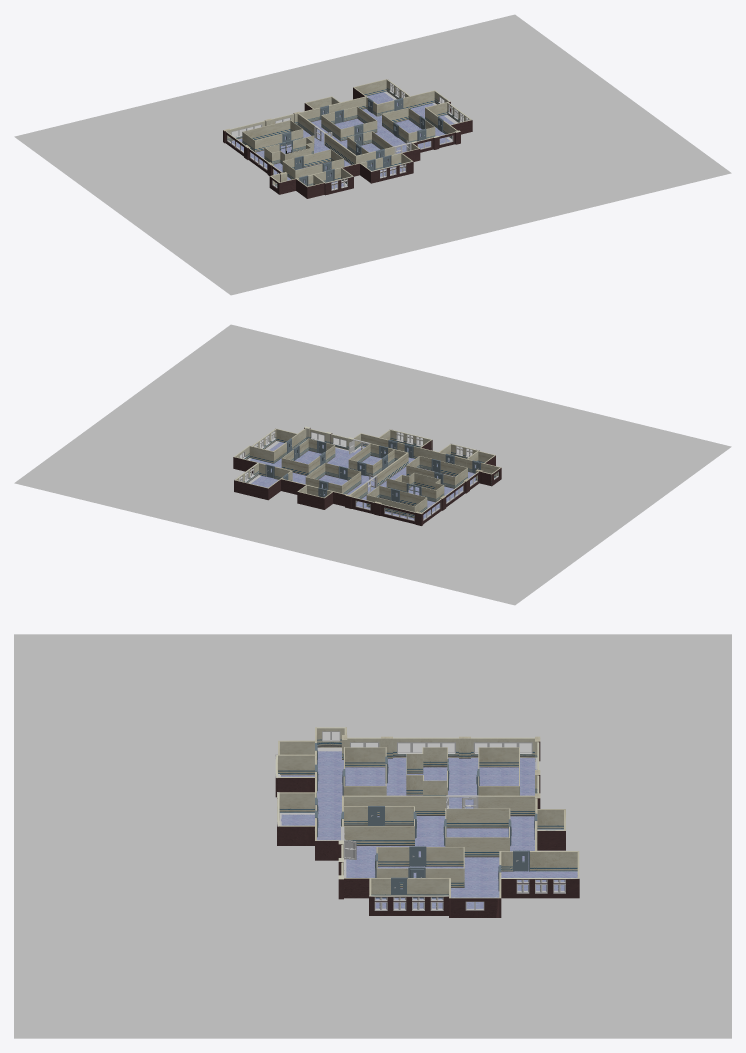
The model's file is LEVEL 1 final.fbx.
3 renders of one model, top to bottom at view 1: azimuth 30°, elevation 25°; view 2: azimuth 150°, elevation 25°; view 3: azimuth 270°, elevation 25°, orthographic. The views are drawn at different scales.
Parts seen in each view (by area): view 1: pCube101, Walls, Bodenlayer_innen, Door_1, Walls_windowed_3, Walls_windowed_2; view 2: pCube101, Walls, Bodenlayer_innen, Door_1, Walls_windowed_2, Walls_windowed_3; view 3: pCube101, Walls, Bodenlayer_innen, Walls_windowed_2, Walls_windowed_3, Door_1.
Part boxes in pixels (x1,y1,x2,y2): pCube101: [14, 14, 731, 295]; Walls: [223, 79, 471, 198]; Bodenlayer_innen: [232, 92, 454, 188]; Door_1: [282, 97, 443, 186]; Walls_windowed_3: [324, 79, 472, 195]; Walls_windowed_2: [225, 90, 455, 193]; pCube101: [14, 324, 731, 605]; Walls: [233, 426, 501, 525]; Bodenlayer_innen: [250, 442, 475, 519]; Door_1: [265, 438, 481, 502]; Walls_windowed_2: [234, 428, 500, 524]; Walls_windowed_3: [234, 428, 479, 491]; pCube101: [14, 634, 731, 1038]; Walls: [278, 727, 579, 917]; Bodenlayer_innen: [281, 751, 577, 908]; Walls_windowed_2: [317, 727, 539, 917]; Walls_windowed_3: [275, 754, 579, 915]; Door_1: [315, 743, 537, 897].
Size of the model in its own units: 400 by 10.26 by 300.
